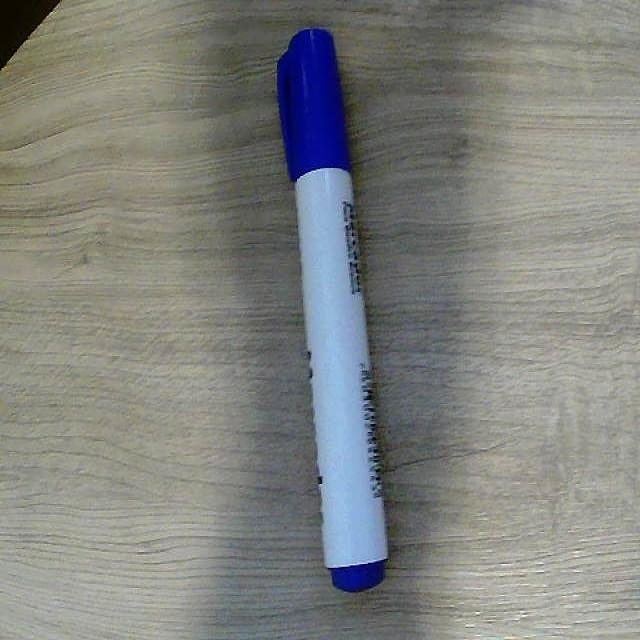caneta: (250, 19, 406, 608)
